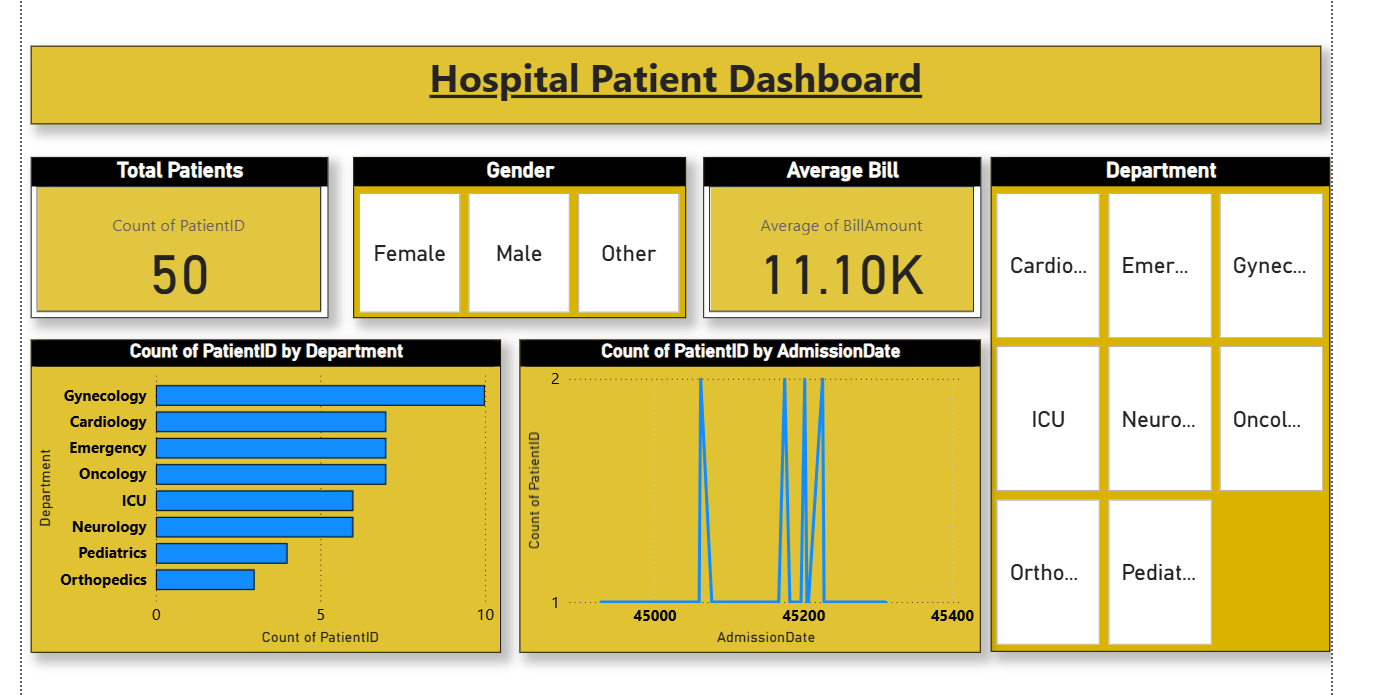

The dashboard page shown, as its layout file describes it:
{"tool":"powerbi","page":{"name":"Page 1","canvas":[1280,720],"ordinal":0},"visuals":[{"type":"cardVisual","title":"Total Patients","fields":{"Data":["CountNonNull(Sheet1.PatientID)"]},"box":[8.2,181.1,290.9,157.8],"z":0},{"type":"advancedSlicerVisual","fields":{"Values":["Sheet1.Gender"]},"box":[323.8,181.1,325.2,157.8],"z":1000},{"type":"barChart","fields":{"Category":["Sheet1.Department"],"Y":["CountNonNull(Sheet1.PatientID)"]},"box":[8.2,359.5,459.7,306],"z":2000},{"type":"textbox","box":[8.2,72.7,1262.4,76.8],"z":3000},{"type":"cardVisual","title":"Average Bill","fields":{"Data":["Avg(Sheet1.BillAmount)"]},"box":[666.9,181.1,271.7,157.8],"z":3001},{"type":"advancedSlicerVisual","fields":{"Values":["Sheet1.Department"]},"box":[948.2,181.1,332.1,484.4],"z":3002},{"type":"lineChart","fields":{"Category":["Sheet1.AdmissionDate"],"Y":["CountNonNull(Sheet1.PatientID)"]},"box":[487.1,359.5,451.5,306],"z":3003}]}

Visuals, with their boxes in screenshot pixels (x1, y1, x2, y2):
"Total Patients" cardVisual: [x1=26, y1=156, x2=323, y2=317]
advancedSlicerVisual - Sheet1.Gender: [x1=349, y1=156, x2=681, y2=317]
barChart - Sheet1.Department x CountNonNull(Sheet1.PatientID): [x1=26, y1=338, x2=496, y2=651]
textbox: [x1=26, y1=45, x2=1315, y2=124]
"Average Bill" cardVisual: [x1=699, y1=156, x2=976, y2=317]
advancedSlicerVisual - Sheet1.Department: [x1=986, y1=156, x2=1325, y2=651]
lineChart - Sheet1.AdmissionDate x CountNonNull(Sheet1.PatientID): [x1=515, y1=338, x2=976, y2=651]
